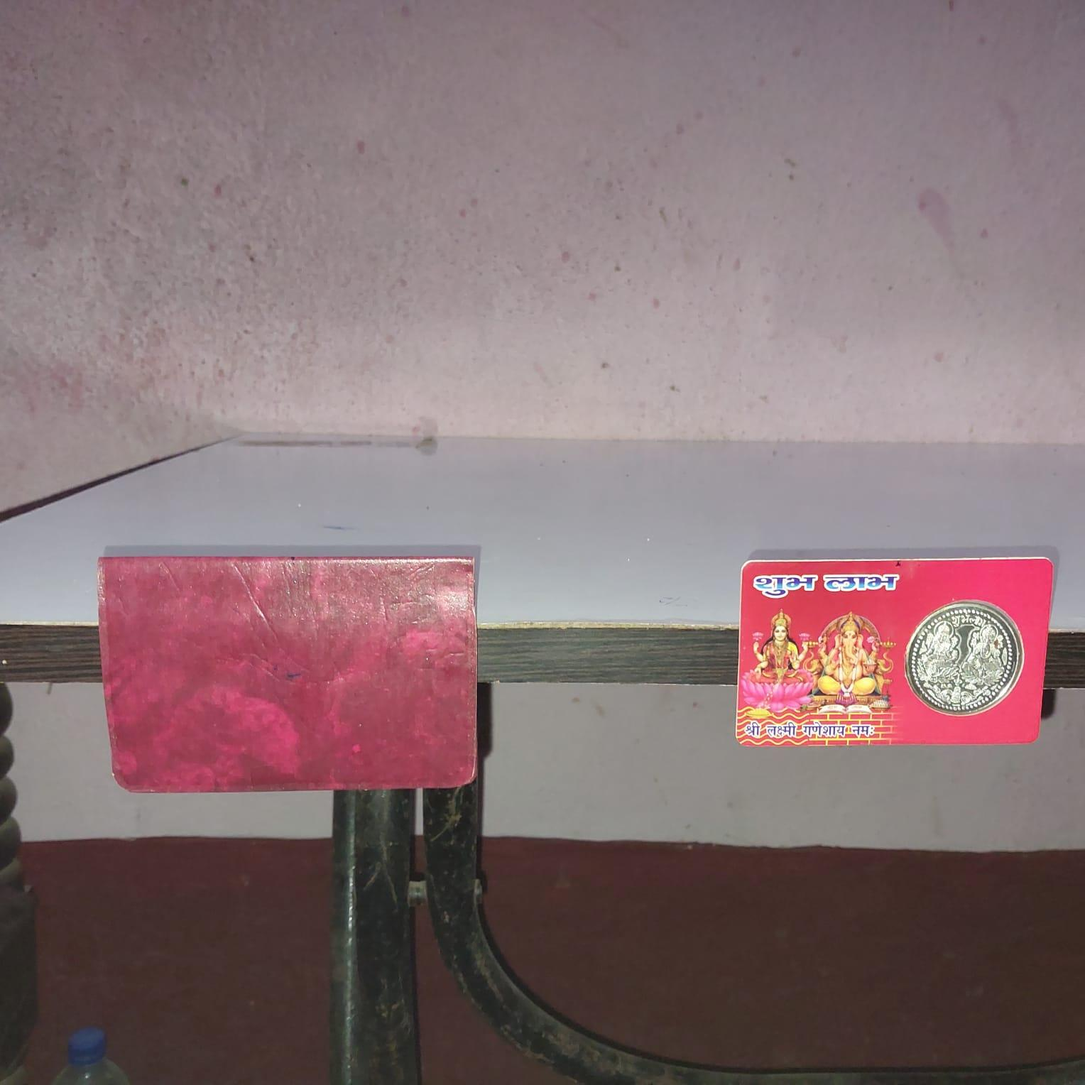blessing_card: (733, 562, 1063, 753)
wallet: (103, 547, 492, 789)
